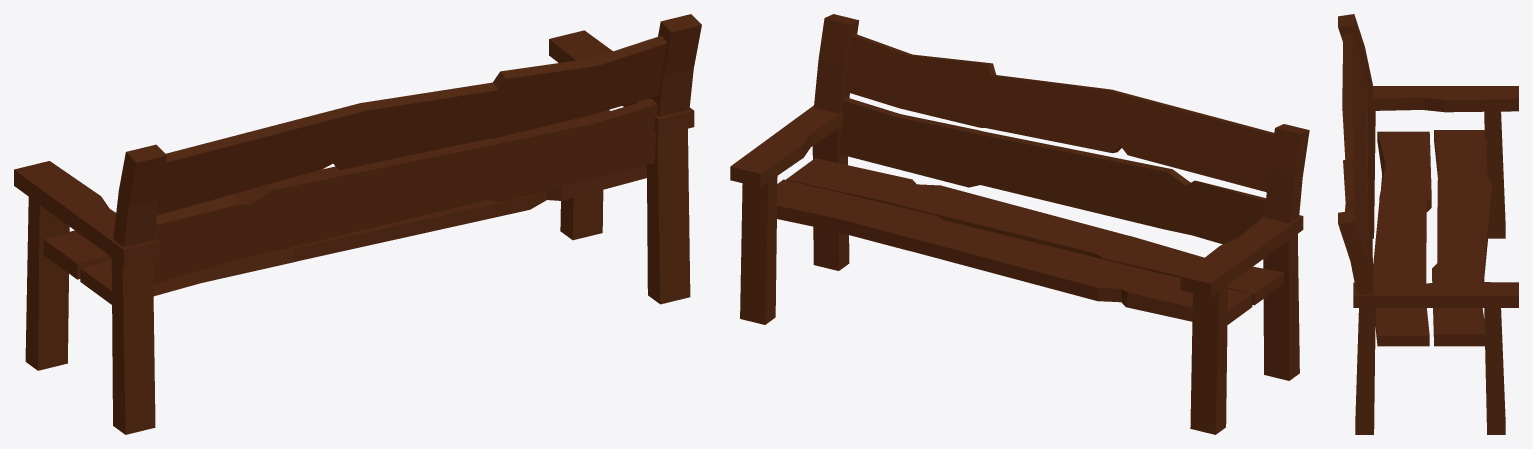
The model's file is Village_Bench_1.glb.
3 views of the same model, side by side, from view 1: azimuth 30°, elevation 25°; view 2: azimuth 150°, elevation 25°; view 3: azimuth 270°, elevation 25° (orthographic). The views are drawn at different scales.
Parts seen in each view (by area): view 1: Bench_1; view 2: Bench_1; view 3: Bench_1.
Boxes of the visible parts, left/top/right/bottom form: Bench_1: left=14, top=14, right=701, bottom=434; Bench_1: left=730, top=14, right=1309, bottom=434; Bench_1: left=1338, top=14, right=1518, bottom=434.
Size of the model in its own units: 66.5 by 31.58 by 24.24.
